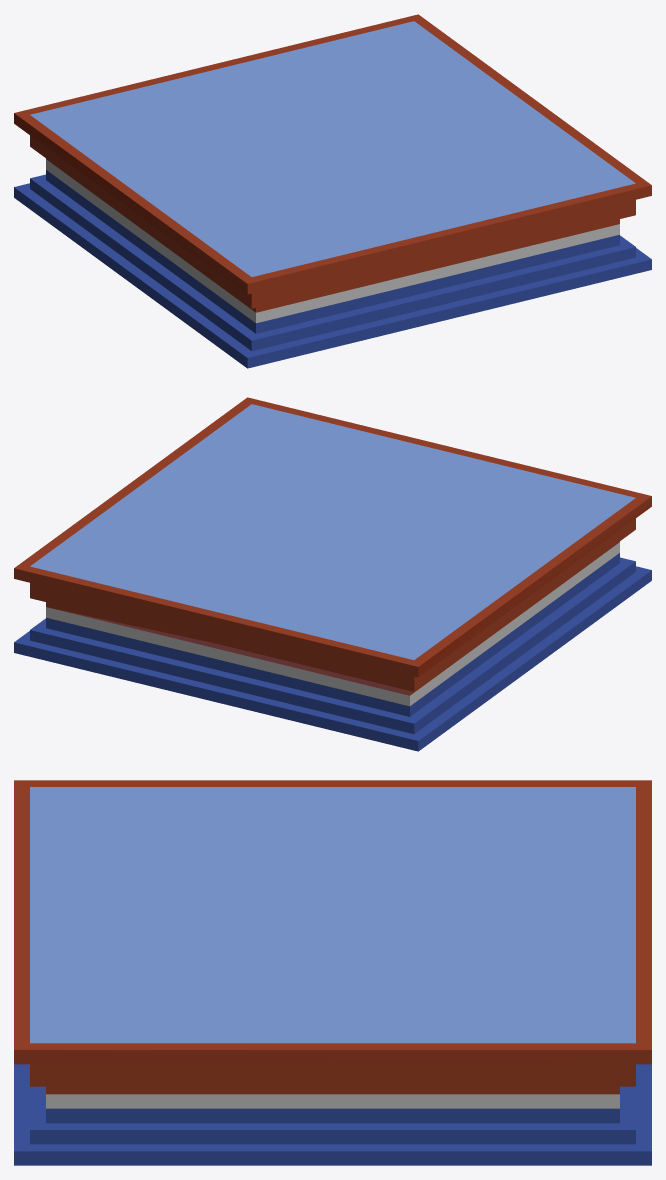
File: building_top_soccerBalls.glb
The picture shows the model from 3 angles, top to bottom: view 1: azimuth 30°, elevation 25°; view 2: azimuth 150°, elevation 25°; view 3: azimuth 270°, elevation 25°; orthographic projection. The views are drawn at different scales.
Parts seen in each view (by area): view 1: ObjObject; view 2: ObjObject; view 3: ObjObject.
Part boxes in pixels (box(x1,y1,x2,y2)): ObjObject: box(14, 14, 651, 368); ObjObject: box(14, 397, 651, 751); ObjObject: box(14, 780, 651, 1165).
Size of the model in its own units: 4 by 0.8 by 4.
1 material, 1 textured.
